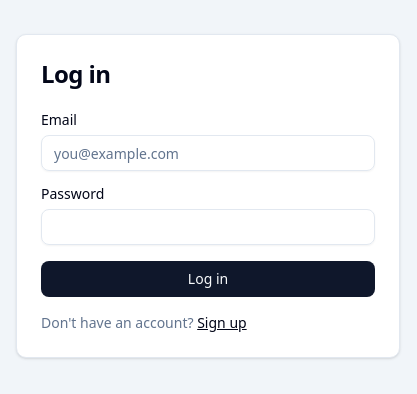
Test case: LoginPage › shows the form-level error on a 401
In the field labelled "Email": point(208, 153) x1=41 y1=135 x2=375 y2=171, type "user@example.com"
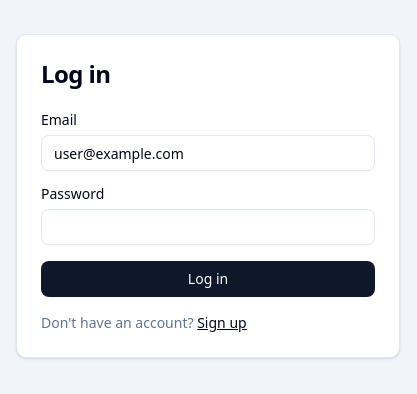
In the password field labelled "Password": point(208, 227) x1=41 y1=209 x2=375 y2=245, type "password123"
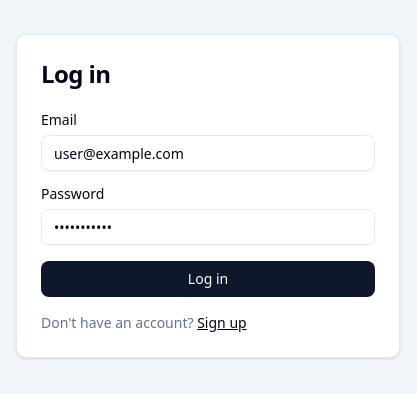
Click the button "Log in": point(208, 279) x1=41 y1=261 x2=375 y2=297
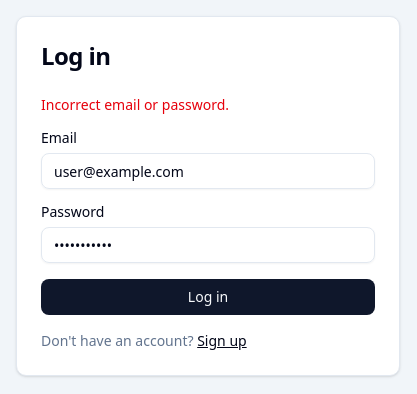
Check: the text "Incorrect email or password." is shown, box x1=41 y1=95 x2=229 y2=114
